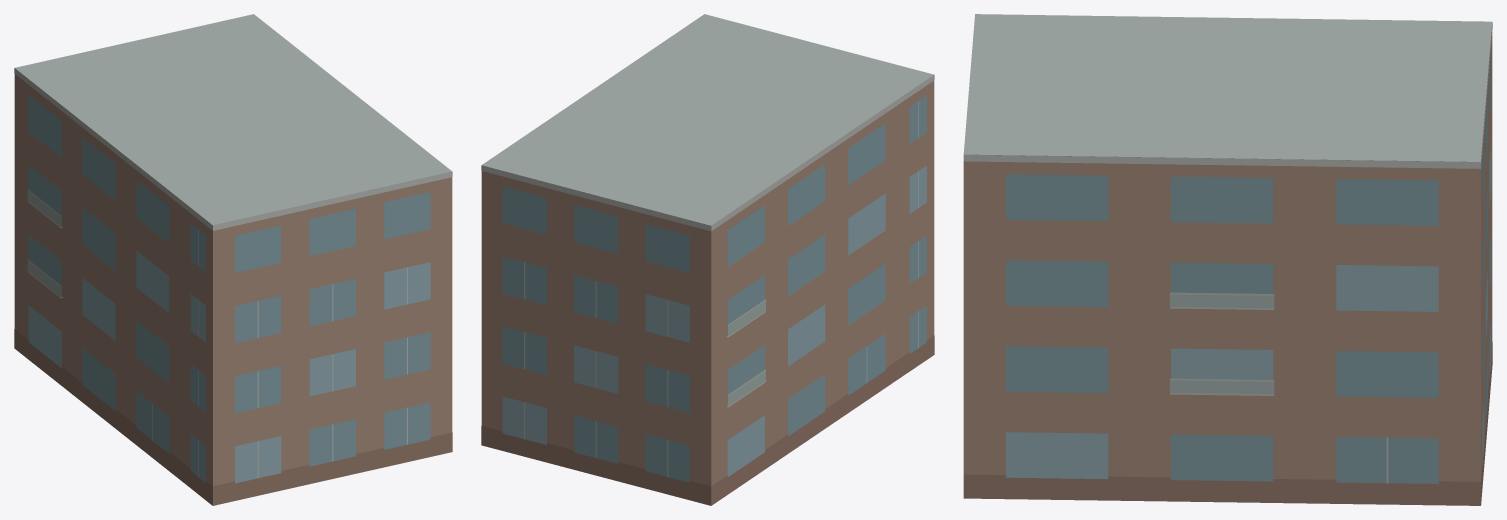
File: residential-c820a73e-3299-473a-8c03-aa5f3cfaedb4.glb
3 renders of one model, left to right at view 1: azimuth 30°, elevation 25°; view 2: azimuth 150°, elevation 25°; view 3: azimuth 270°, elevation 25°, orthographic. The views are drawn at different scales.
Parts seen in each view (by area): view 1: residential-c820a73e-3299-473a-8c03-aa5f3cfaedb4.tmp; view 2: residential-c820a73e-3299-473a-8c03-aa5f3cfaedb4.tmp; view 3: residential-c820a73e-3299-473a-8c03-aa5f3cfaedb4.tmp.
Boxes of the visible parts, box(x1,y1,x2,y2) form: residential-c820a73e-3299-473a-8c03-aa5f3cfaedb4.tmp: box(14, 14, 452, 505); residential-c820a73e-3299-473a-8c03-aa5f3cfaedb4.tmp: box(481, 14, 934, 505); residential-c820a73e-3299-473a-8c03-aa5f3cfaedb4.tmp: box(963, 14, 1492, 505).
Size of the model in its own units: 11.27 by 12.2 by 17.01.
